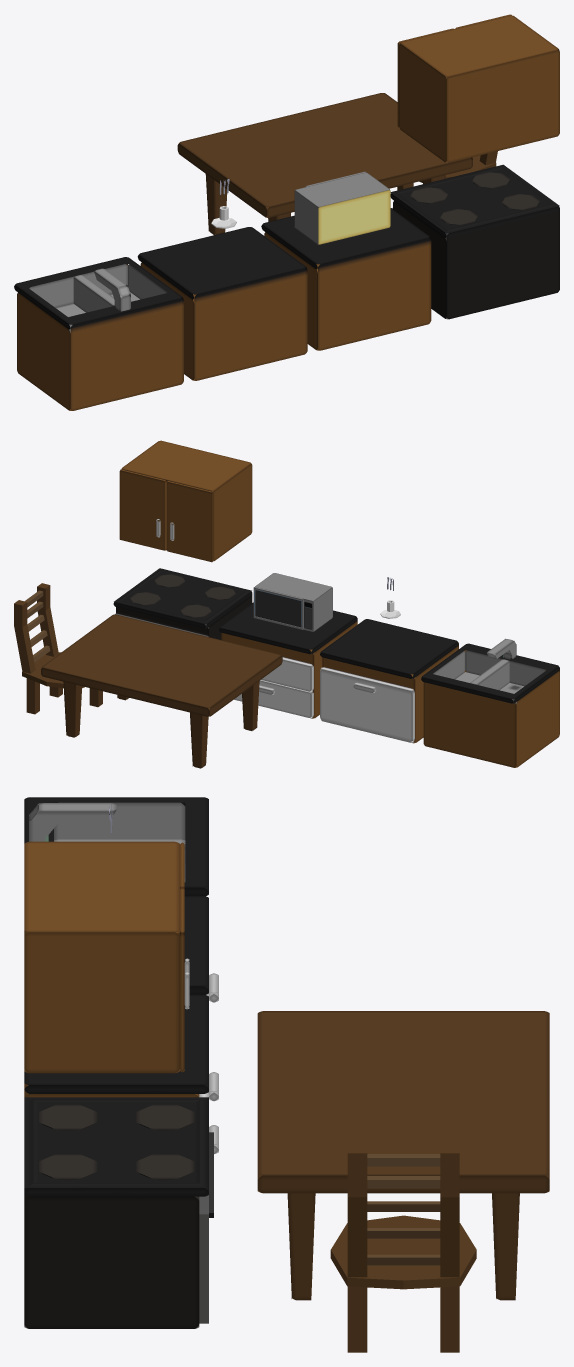
The model's file is Kitchen Props.fbx.
The picture shows the model from 3 angles, top to bottom: view 1: azimuth 30°, elevation 25°; view 2: azimuth 150°, elevation 25°; view 3: azimuth 270°, elevation 25°; orthographic projection. The views are drawn at different scales.
Parts seen in each view (by area): view 1: Counter_4, Cabinet, Table, Counter_2, Counter_3, Counter, Microwave, Sink, Chair; view 2: Table, Counter_4, Counter_2, Cabinet, Drawer3, Counter_3, Counter, Chair, Cabinet Door, Cabinet Door_1, Microwave, Microwave Door (+3 smaller); view 3: Table, Counter_3, Cabinet, Chair, Counter_4, Counter, Counter_2, Sink, Oven Door, cylinder_1, cylinder_3, cylinder_2 (+2 smaller).
Part boxes in pixels (x1=…): Counter_4: x1=14, y1=257, x2=183, y2=410; Cabinet: x1=399, y1=15, x2=559, y2=162; Table: x1=177, y1=93, x2=472, y2=234; Counter_2: x1=137, y1=227, x2=307, y2=380; Counter_3: x1=390, y1=164, x2=559, y2=319; Counter: x1=261, y1=208, x2=431, y2=350; Microwave: x1=294, y1=172, x2=390, y2=244; Sink: x1=94, y1=268, x2=130, y2=311; Chair: x1=397, y1=151, x2=497, y2=190; Table: x1=41, y1=614, x2=282, y2=768; Counter_4: x1=421, y1=643, x2=559, y2=767; Counter_2: x1=320, y1=619, x2=458, y2=743; Cabinet: x1=121, y1=440, x2=252, y2=561; Drawer3: x1=320, y1=667, x2=414, y2=742; Counter_3: x1=113, y1=568, x2=252, y2=639; Counter: x1=219, y1=602, x2=357, y2=718; Chair: x1=14, y1=583, x2=102, y2=714; Cabinet Door: x1=119, y1=469, x2=166, y2=550; Cabinet Door_1: x1=167, y1=481, x2=213, y2=562; Microwave: x1=255, y1=573, x2=332, y2=631; Microwave Door: x1=253, y1=587, x2=303, y2=629; Table: x1=257, y1=1011, x2=549, y2=1300; Counter_3: x1=24, y1=1097, x2=208, y2=1328; Cabinet: x1=24, y1=841, x2=179, y2=1073; Chair: x1=330, y1=1145, x2=476, y2=1352; Counter_4: x1=24, y1=797, x2=208, y2=896; Counter: x1=24, y1=994, x2=208, y2=1097; Counter_2: x1=184, y1=896, x2=208, y2=994; Sink: x1=29, y1=803, x2=116, y2=841; Oven Door: x1=199, y1=1132, x2=213, y2=1323; cylinder_1: x1=136, y1=1104, x2=194, y2=1130; cylinder_3: x1=39, y1=1104, x2=97, y2=1130; cylinder_2: x1=39, y1=1154, x2=97, y2=1179.
Bounding box in the file's own units: 648 × 281 × 338.
13 materials, 13 textured.
